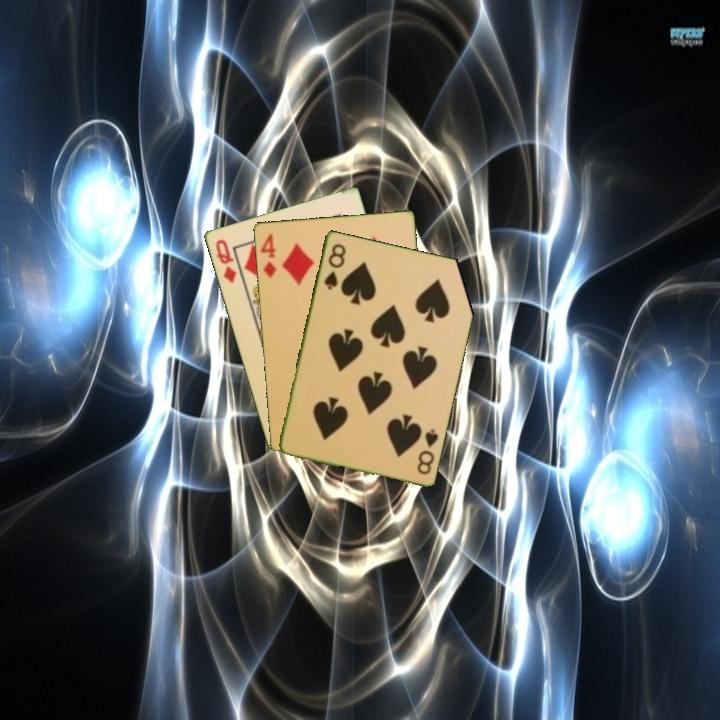4d: (257, 229, 279, 281)
8s: (320, 240, 349, 292), (413, 425, 441, 477)
Qd: (212, 236, 239, 286)
